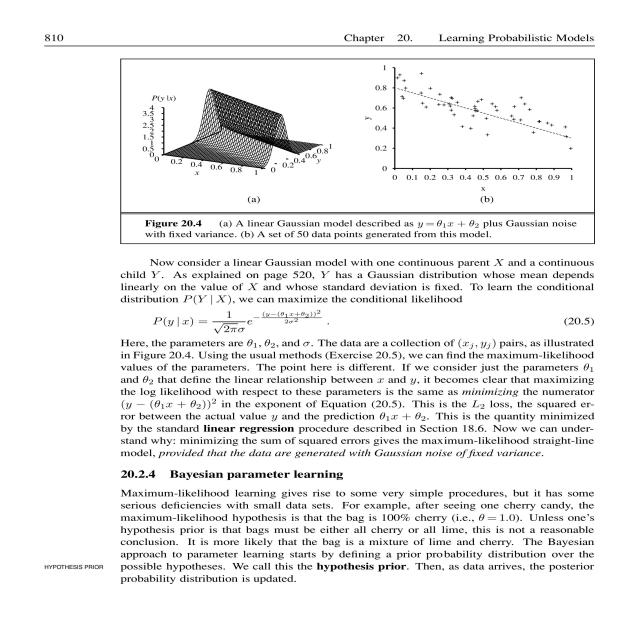diagram: (100, 51, 590, 254)
